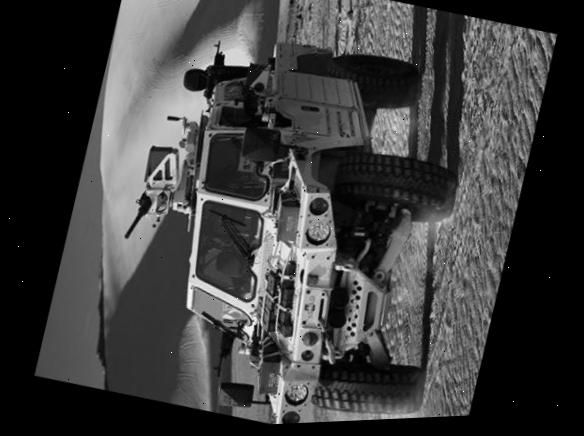armored_car: (81, 0, 502, 432)
